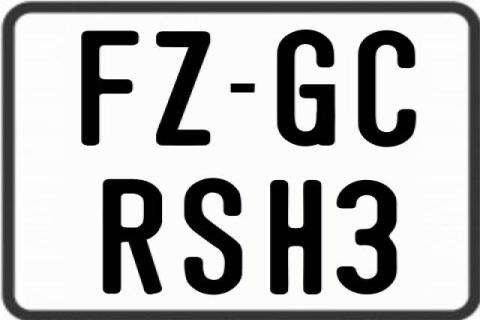0: (334, 178, 400, 292)
C: (356, 30, 420, 148)
F: (80, 28, 141, 147)
G: (275, 30, 338, 148)
H: (267, 178, 321, 294)
R: (102, 177, 165, 293)
S: (184, 178, 243, 298)
Z: (156, 32, 212, 146)
